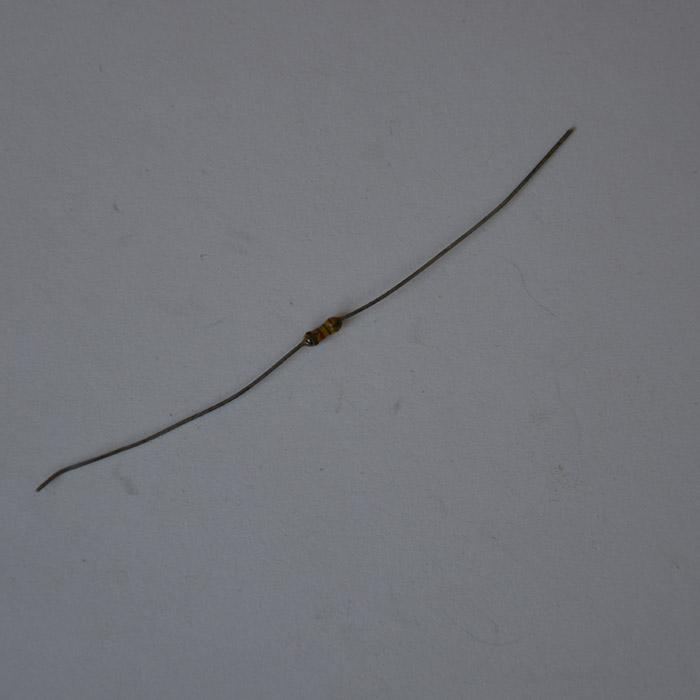resistor: (300, 312, 345, 351)
